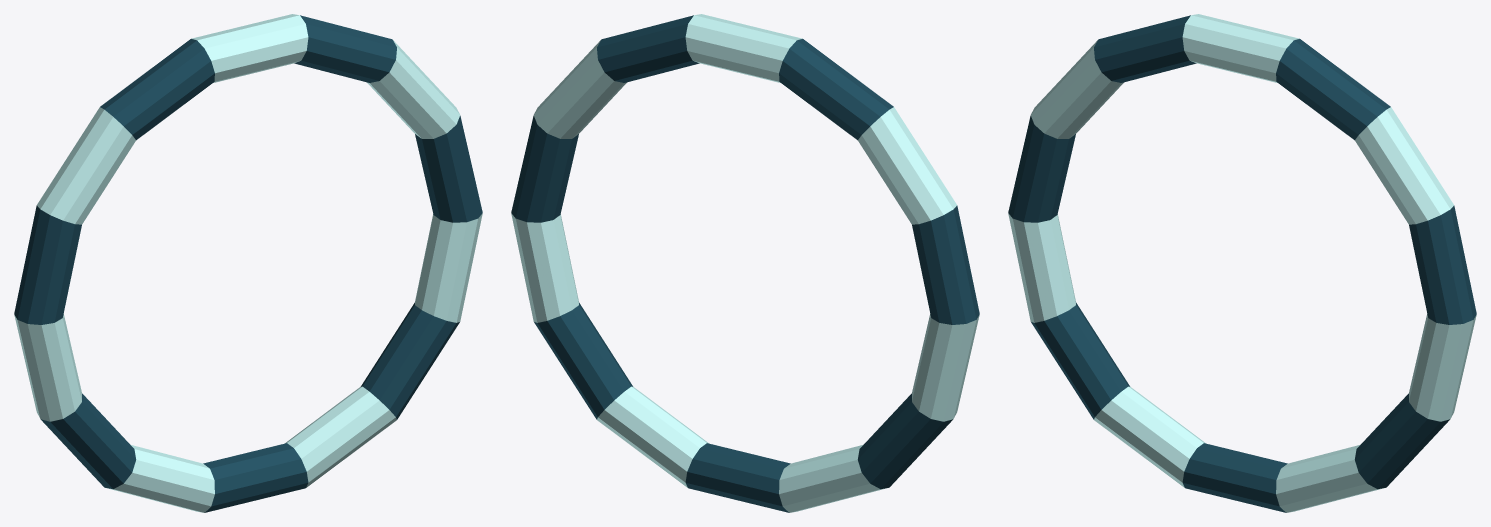
Rendered from Çember3.fbx.
3 views of the same model, side by side, from view 1: azimuth 30°, elevation 25°; view 2: azimuth 150°, elevation 25°; view 3: azimuth 330°, elevation 25° (orthographic).
Visible parts, largest first — view 1: Torus.003; view 2: Torus.003; view 3: Torus.003.
Boxes of the visible parts, x1=… form: Torus.003: x1=14, y1=14, x2=482, y2=512; Torus.003: x1=511, y1=14, x2=979, y2=512; Torus.003: x1=1008, y1=14, x2=1476, y2=512.
Bounding box in the file's own units: 448 × 437 × 41.57.
